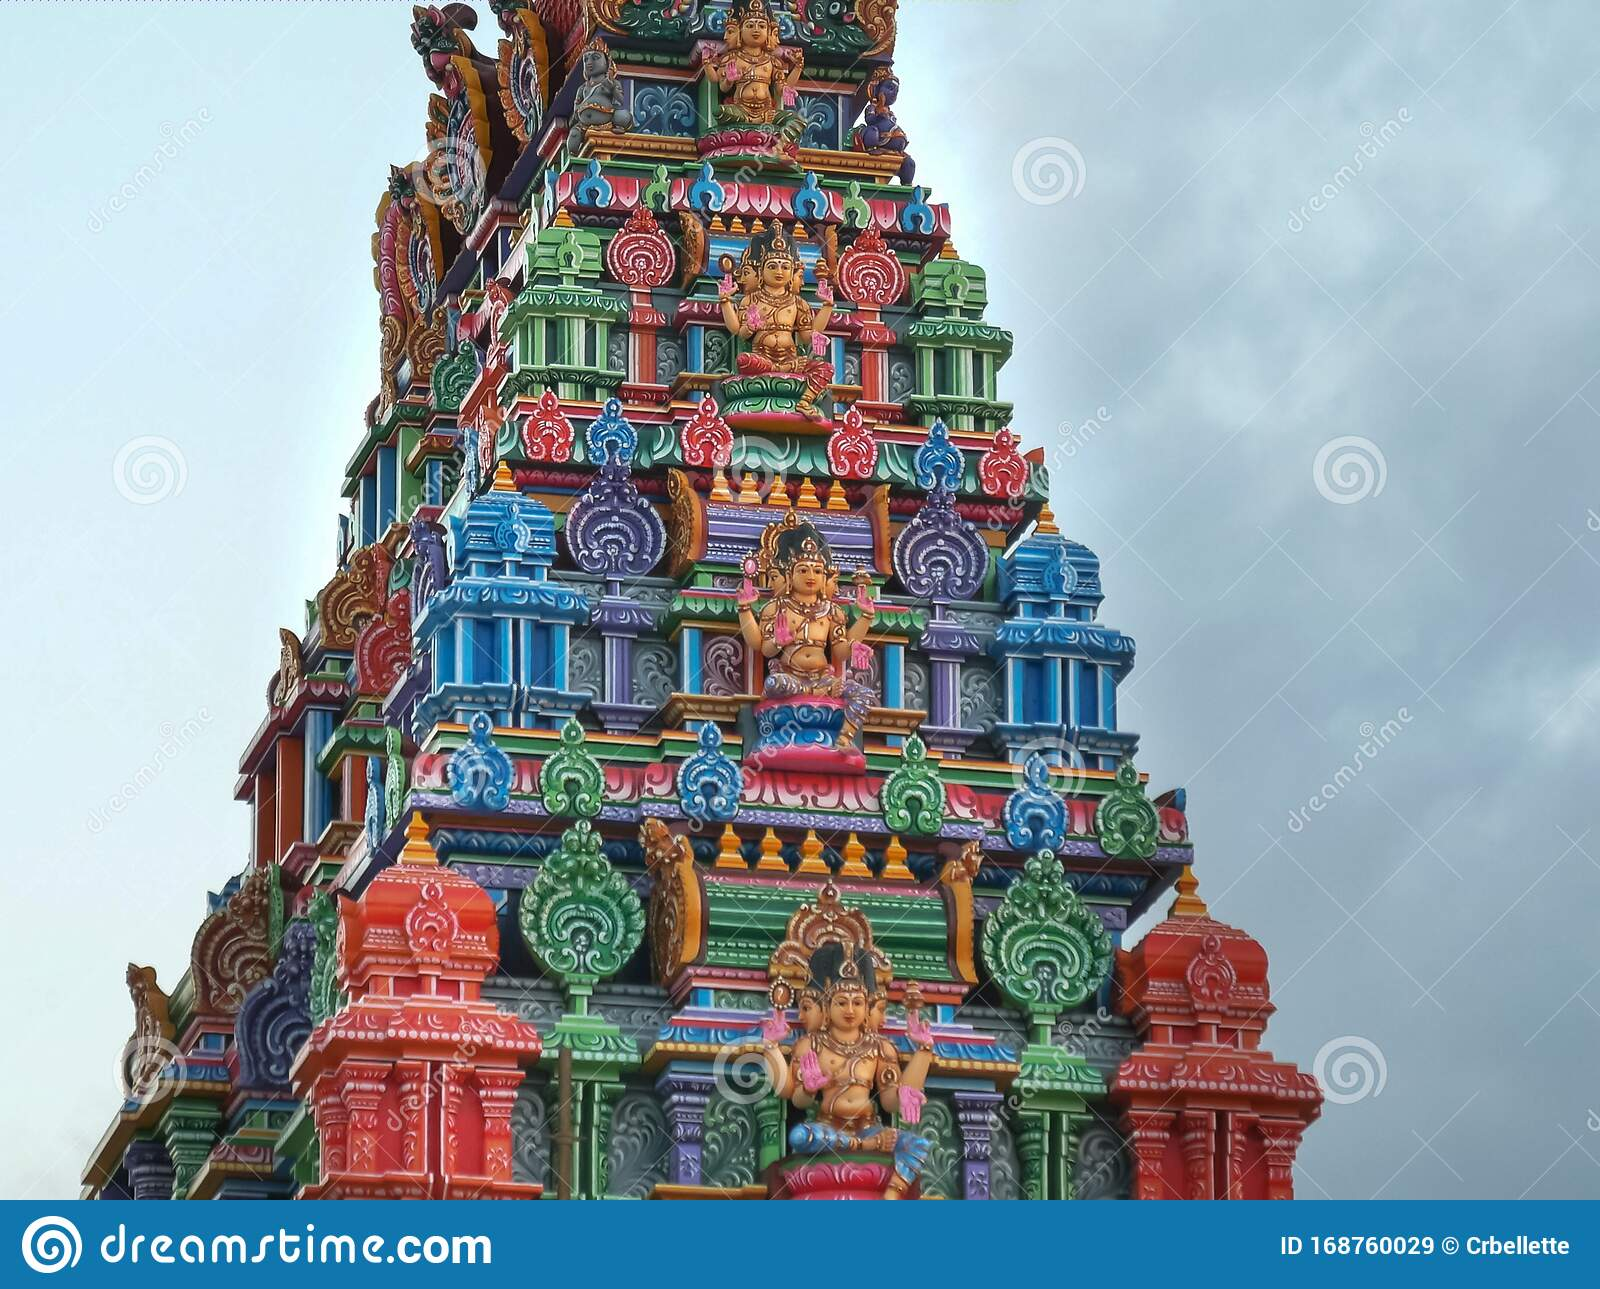Temple: (195, 7, 1334, 1165)
